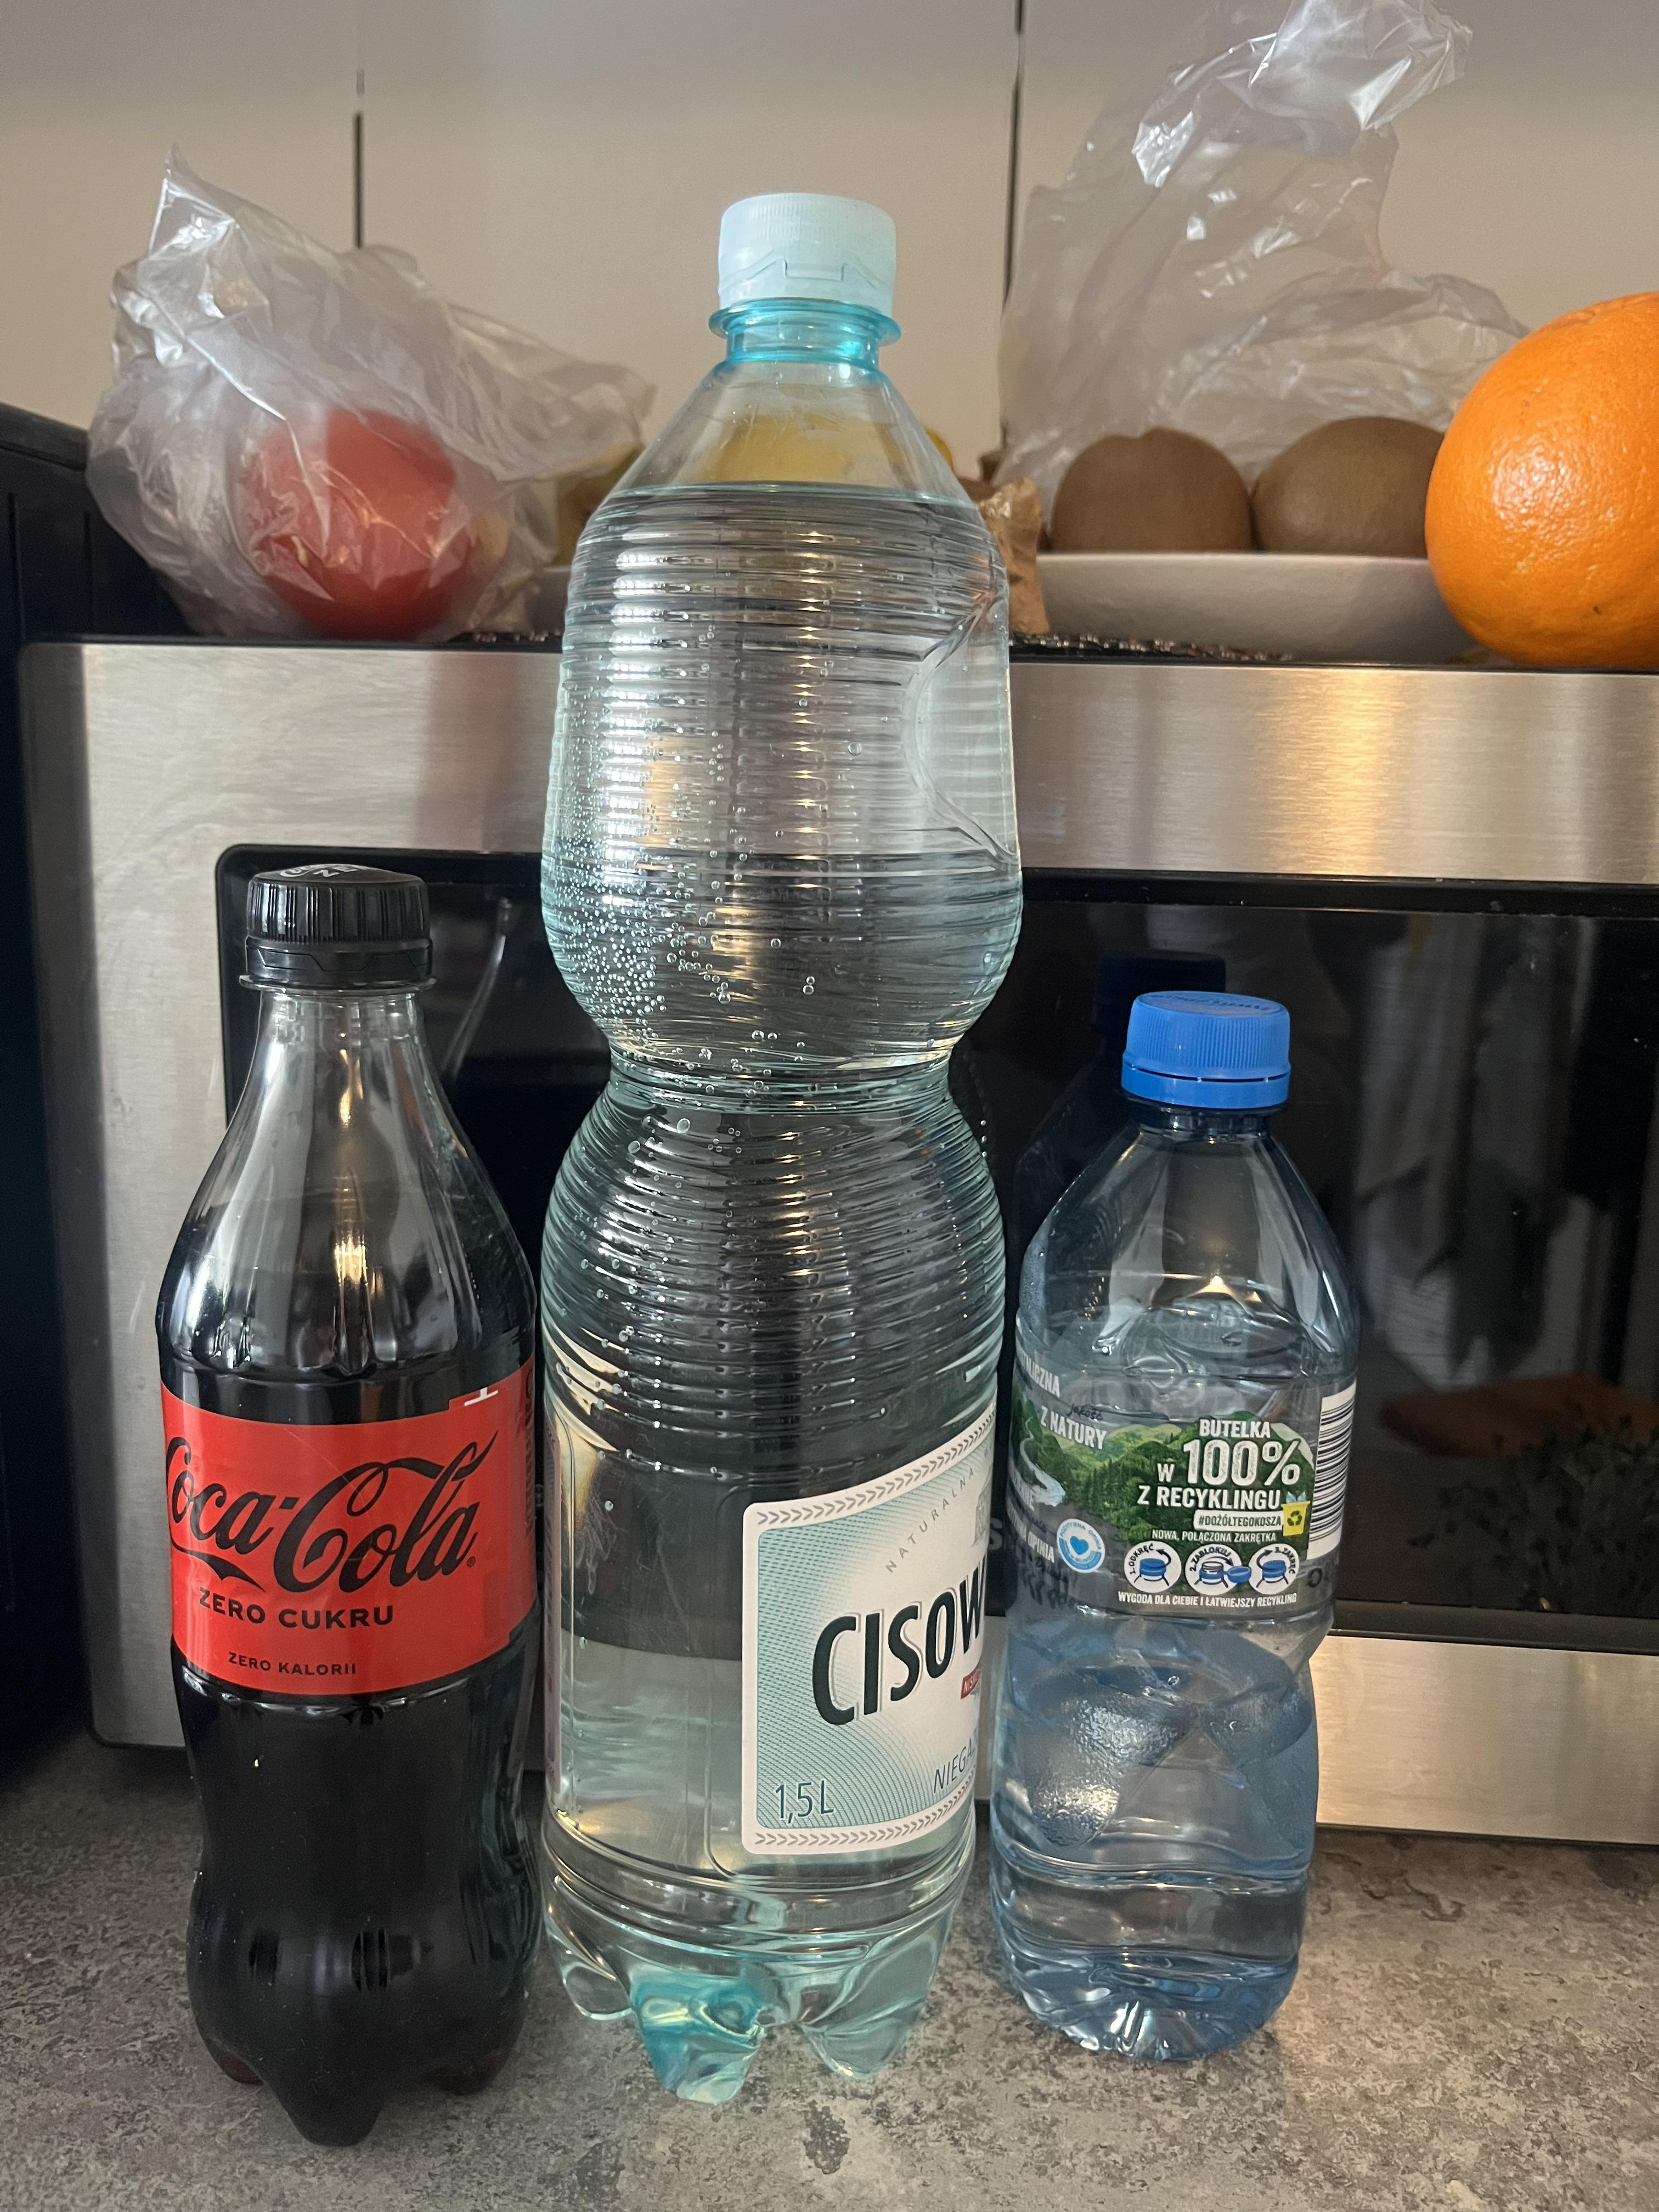Coca Cola: (127, 840, 551, 2168)
